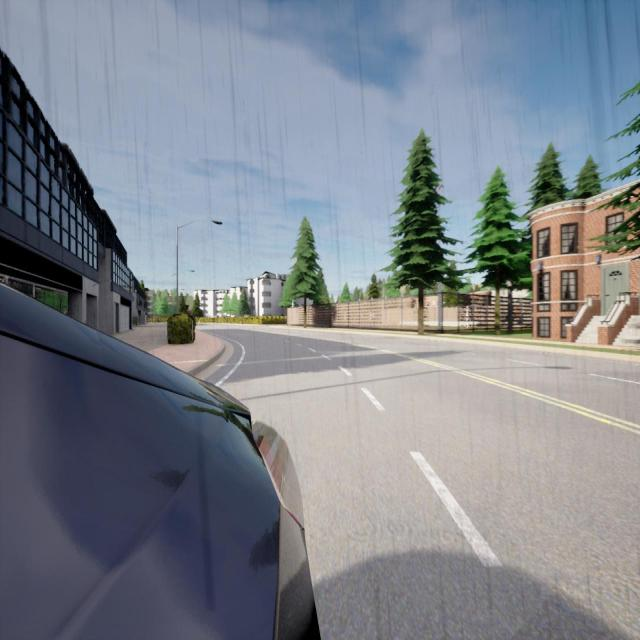Vehicle: (0, 284, 318, 638)
